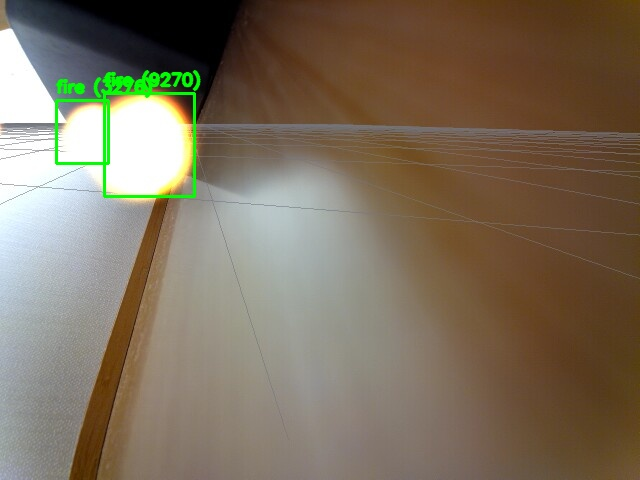fire: (104, 93, 194, 196), (56, 100, 108, 163)
